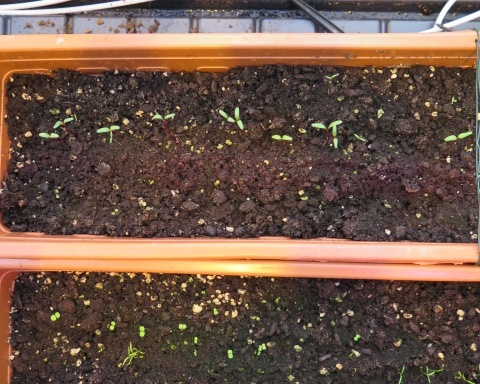crop: (121, 341, 147, 368), (310, 119, 345, 137), (441, 130, 474, 143), (94, 124, 123, 138), (50, 115, 76, 130), (149, 110, 179, 122), (233, 107, 246, 131), (218, 109, 235, 126), (269, 132, 295, 143), (35, 130, 61, 139), (421, 367, 435, 382), (331, 123, 339, 149), (397, 366, 407, 383), (352, 133, 366, 144)
weed: (47, 310, 63, 322), (106, 319, 118, 332), (225, 347, 235, 362), (138, 324, 147, 339), (351, 332, 362, 342), (176, 322, 189, 330), (257, 344, 267, 352)
